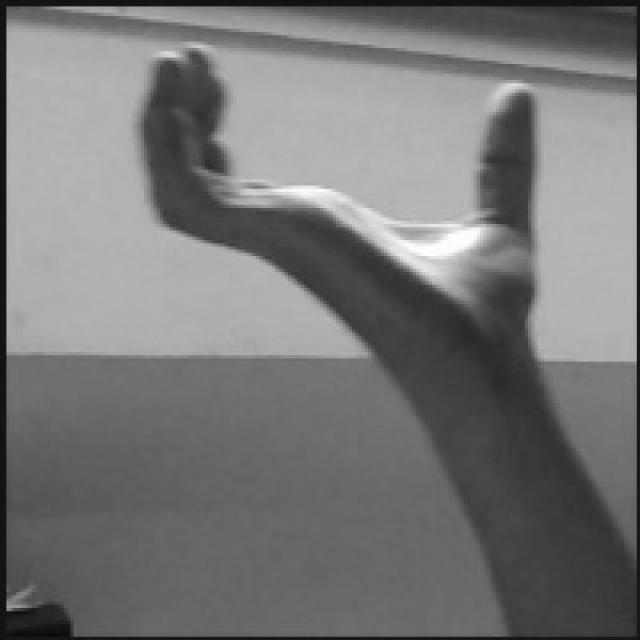space: (141, 44, 538, 360)
